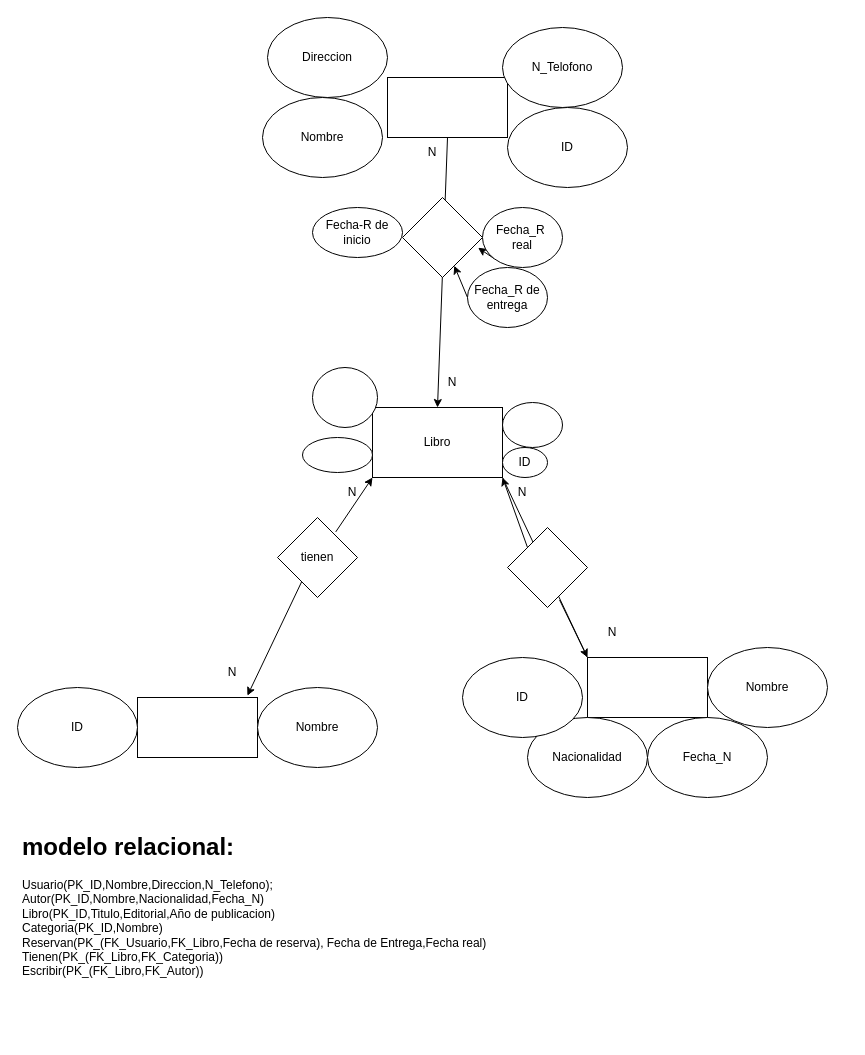
Image size: 865x1055. Some labels were removed from this diagram. The centre of each missing label's shape, as x and y in pixels:
"Autor" belongs at point 647,687.
"Año de publicacion" belongs at point 345,397.
"categorias" belongs at point 197,727.
"Editorial" belongs at point 337,454.
"Escribir" belongs at point 547,567.
"Reservan" belongs at point 442,237.
"Titulo" belongs at point 532,425.
"Usuario" belongs at point 447,107.
